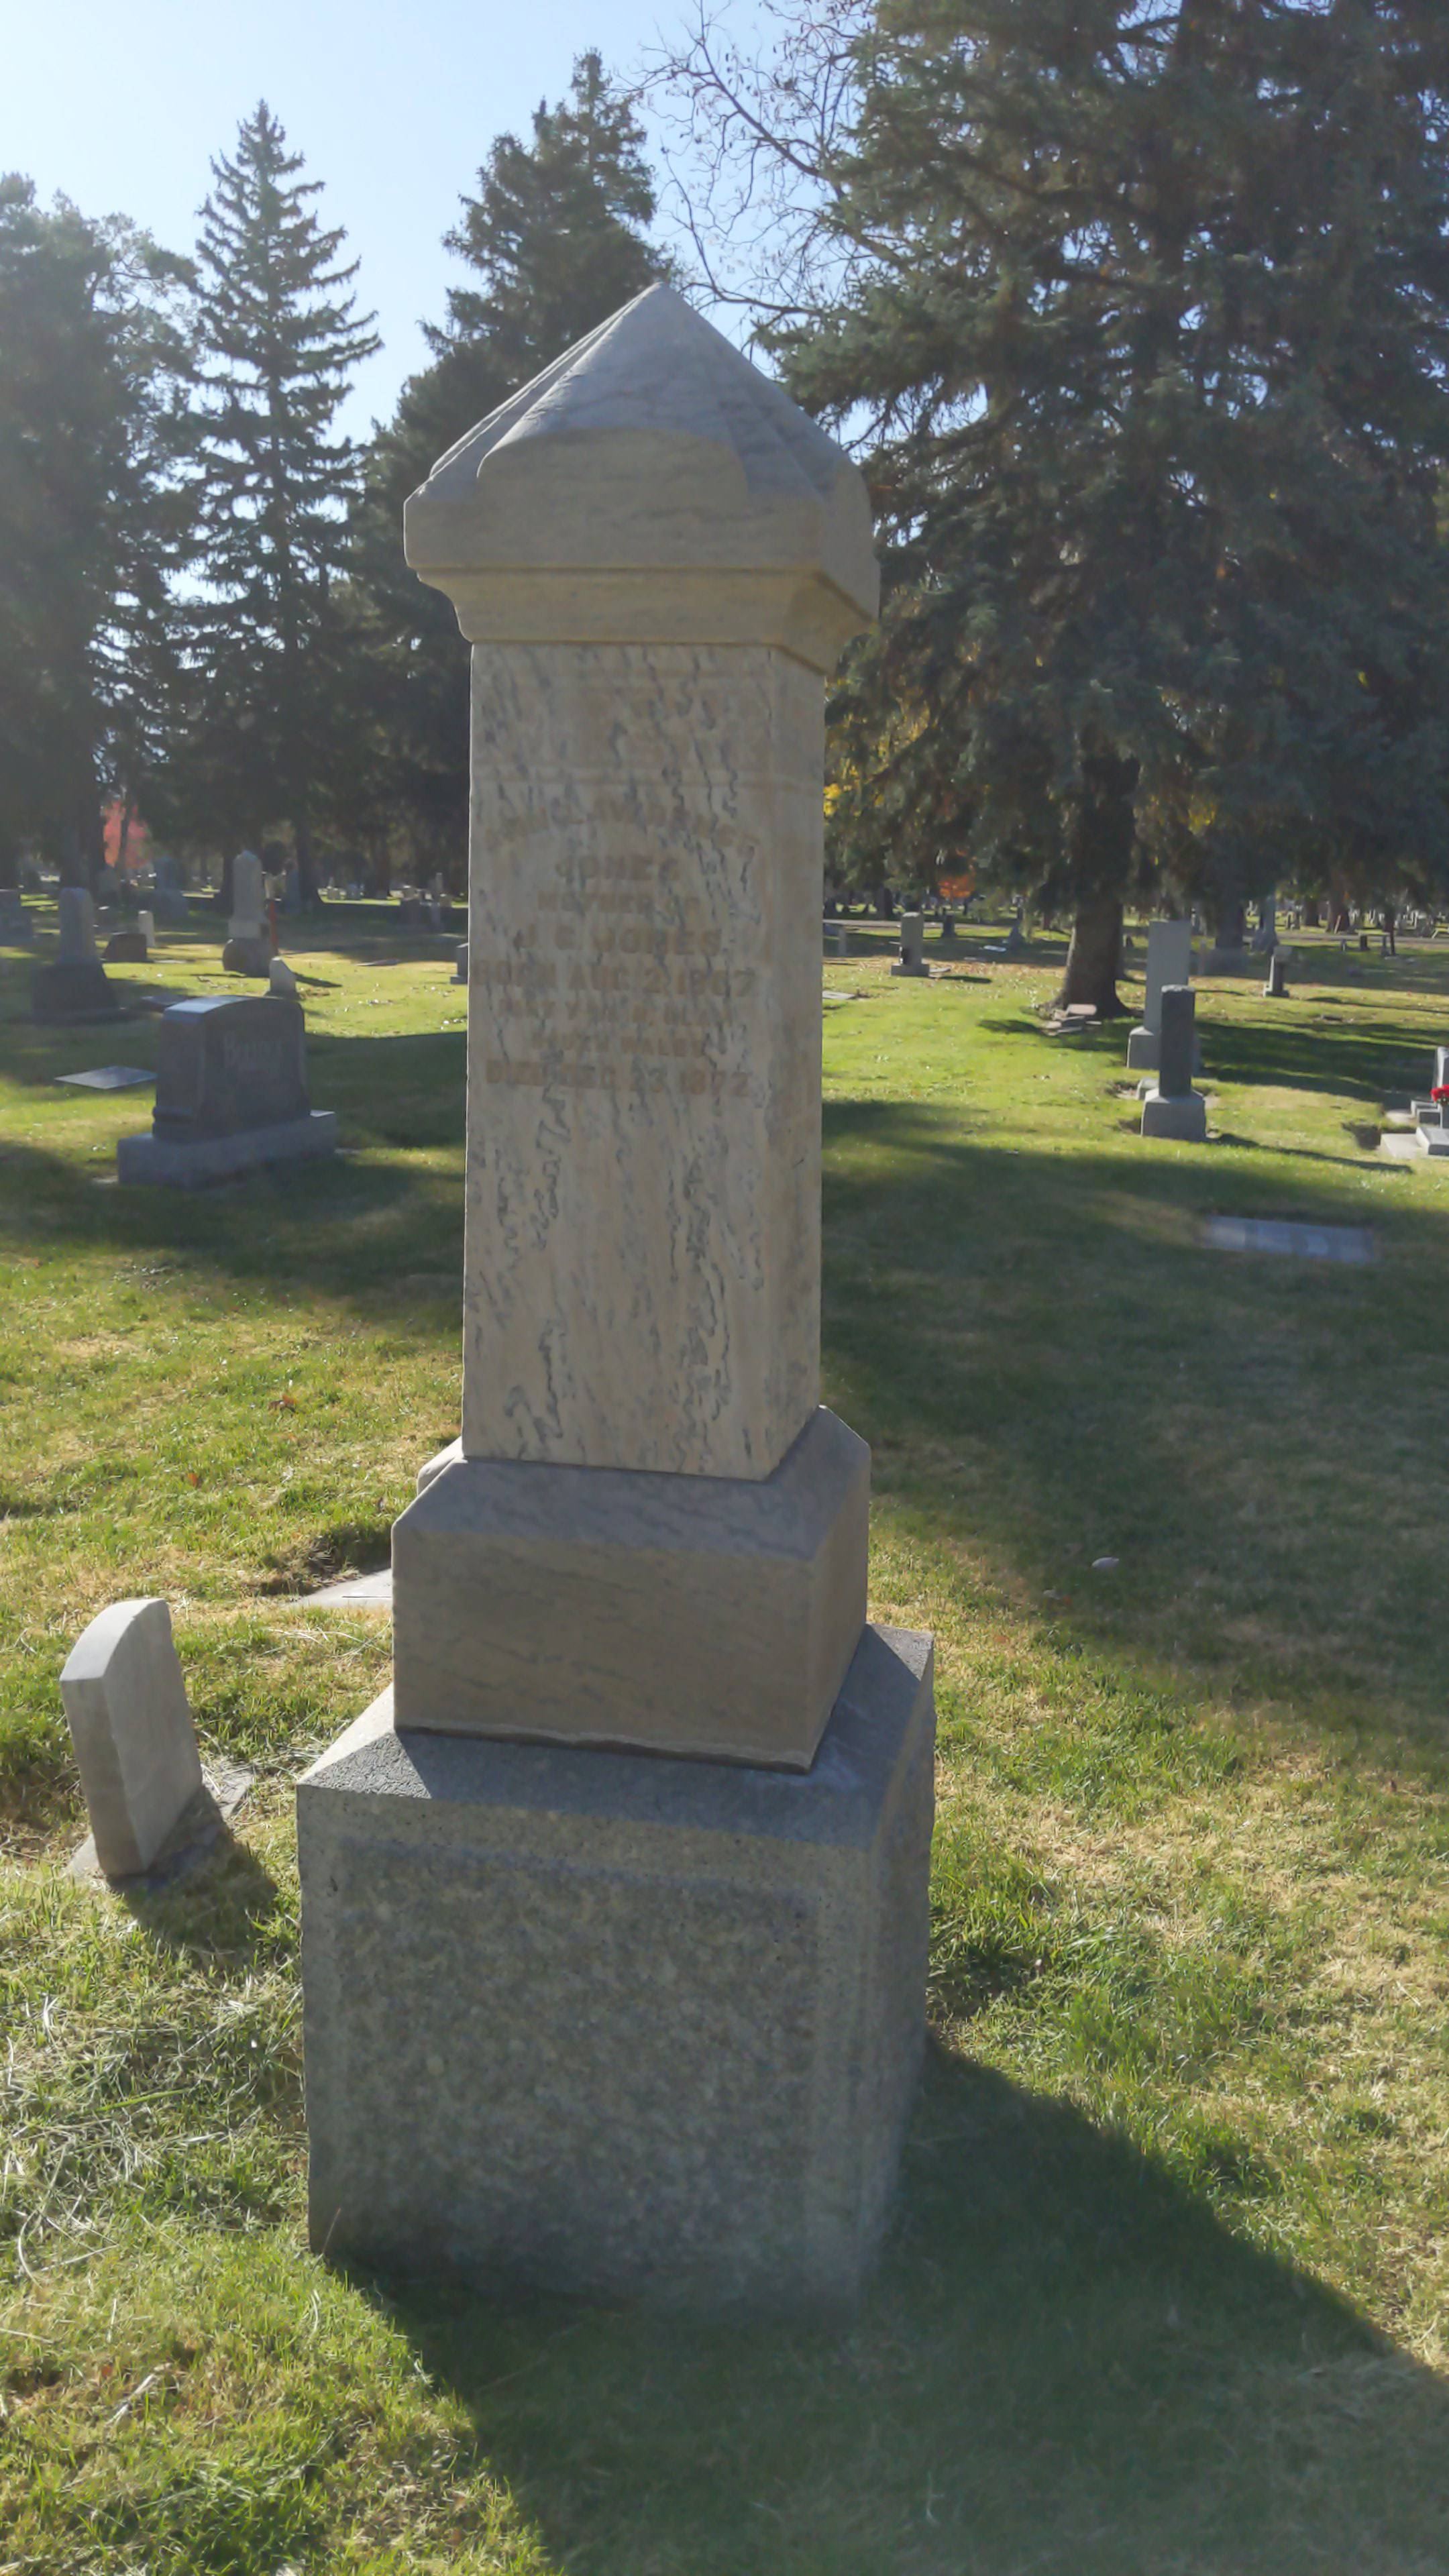obelisk: (396, 287, 870, 1748)
